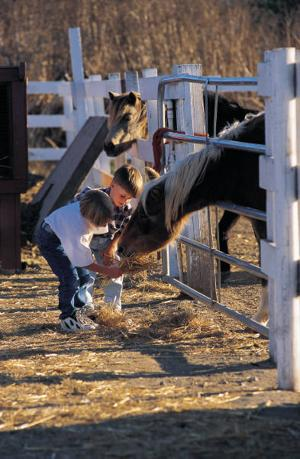person: (36, 185, 126, 337)
